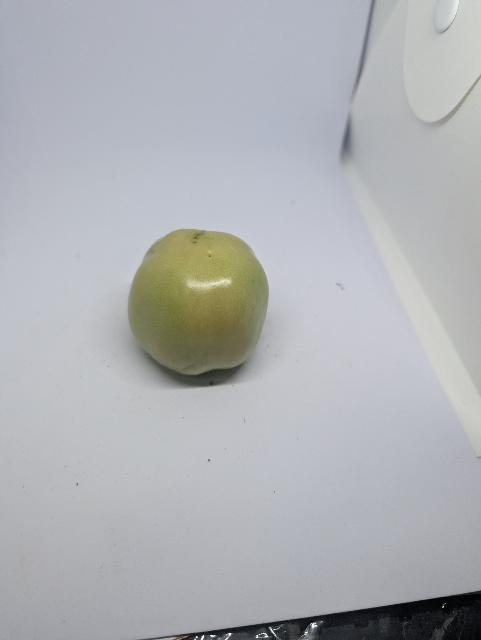green: (125, 228, 271, 379)
